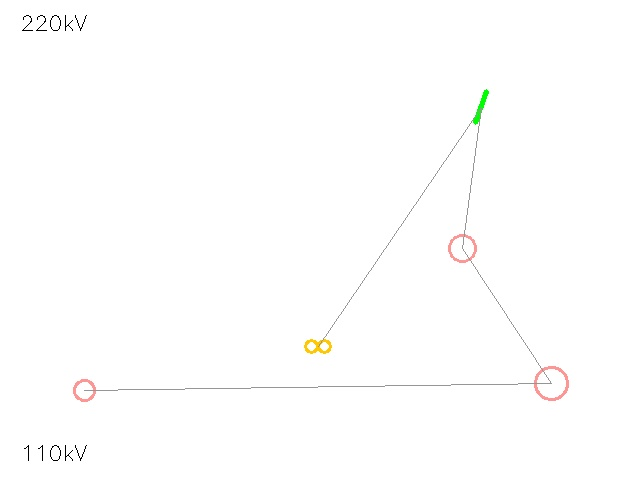busbar: (460, 86, 502, 128)
disconnect_switch: (63, 369, 105, 411)
fuse: (519, 351, 583, 415)
reactor: (435, 221, 489, 275)
transformer_2w: (301, 329, 335, 363)
